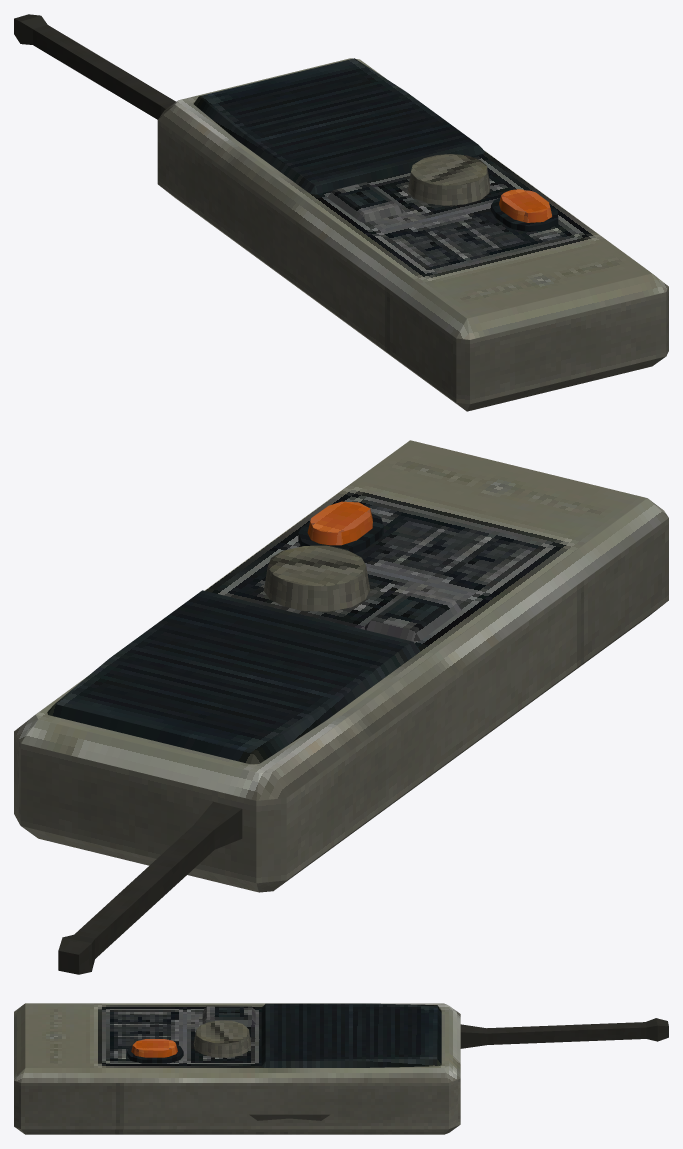
Rendered from walkie_talkie_1.glb.
The picture shows the model from 3 angles, top to bottom: view 1: azimuth 30°, elevation 25°; view 2: azimuth 150°, elevation 25°; view 3: azimuth 270°, elevation 25°; orthographic projection. The views are drawn at different scales.
Visible parts, largest first — view 1: walkie_talkie_1; view 2: walkie_talkie_1; view 3: walkie_talkie_1.
Boxes of the visible parts, bbox=[...] form: walkie_talkie_1: bbox=[14, 14, 668, 411]; walkie_talkie_1: bbox=[14, 440, 668, 974]; walkie_talkie_1: bbox=[14, 1003, 668, 1134].
Size of the model in its own units: 0.1039 by 0.048 by 0.3561.
1 material, 1 textured.
